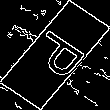P_SE: (20, 25, 90, 85)
